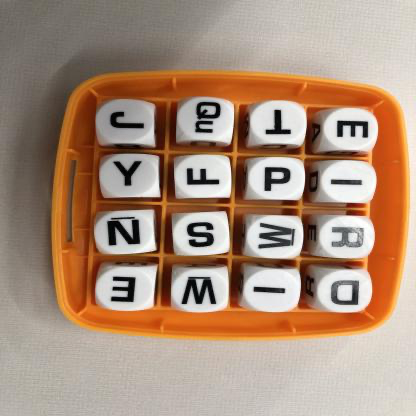d: (317, 270, 371, 312)
e: (325, 108, 379, 153), (99, 268, 155, 310)
f: (176, 156, 234, 199)
i: (322, 161, 377, 203), (247, 270, 300, 311)
j: (99, 101, 159, 147)
n: (98, 213, 156, 253)
p: (250, 159, 306, 202)
qu: (178, 99, 237, 142)
r: (319, 217, 374, 257)
s: (176, 214, 231, 256)
t: (247, 99, 307, 145)
w: (173, 270, 232, 312), (248, 215, 302, 258)
y: (100, 153, 162, 197)
